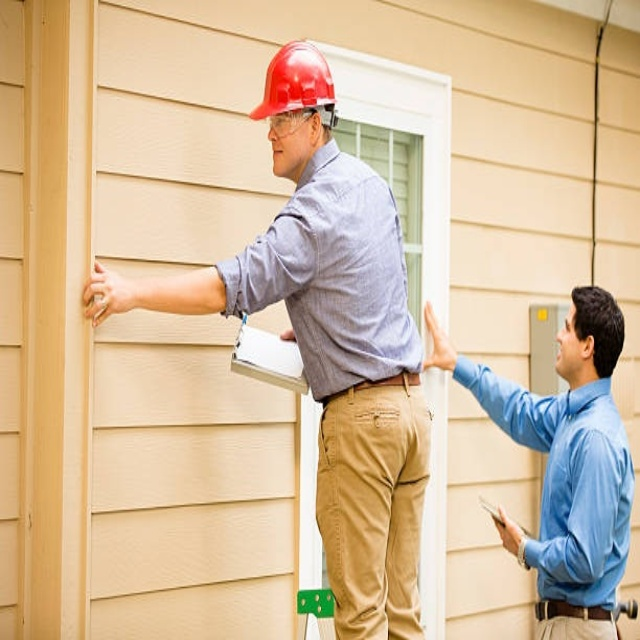Gafas: (267, 108, 316, 133)
Sin_gafas: (558, 312, 575, 339)
Sin_guantes: (83, 257, 130, 324), (418, 298, 453, 375), (490, 502, 527, 560)
Sin_mascara: (271, 143, 294, 174), (554, 337, 574, 370)
